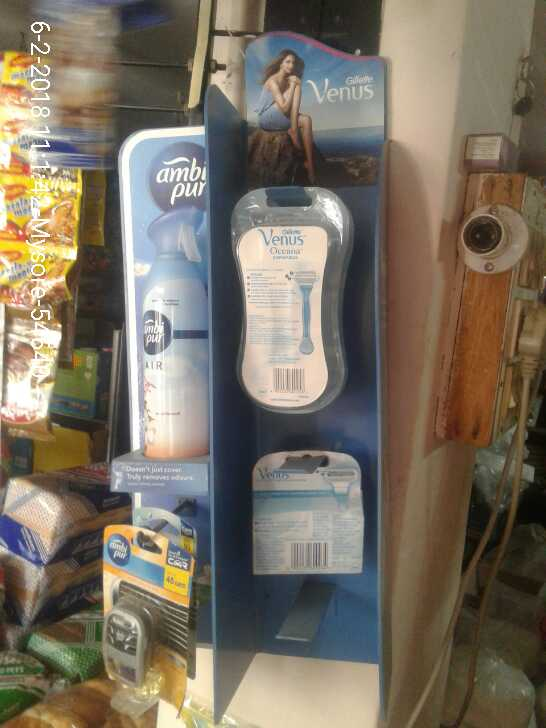home: (130, 205, 206, 459), (101, 530, 196, 691)
